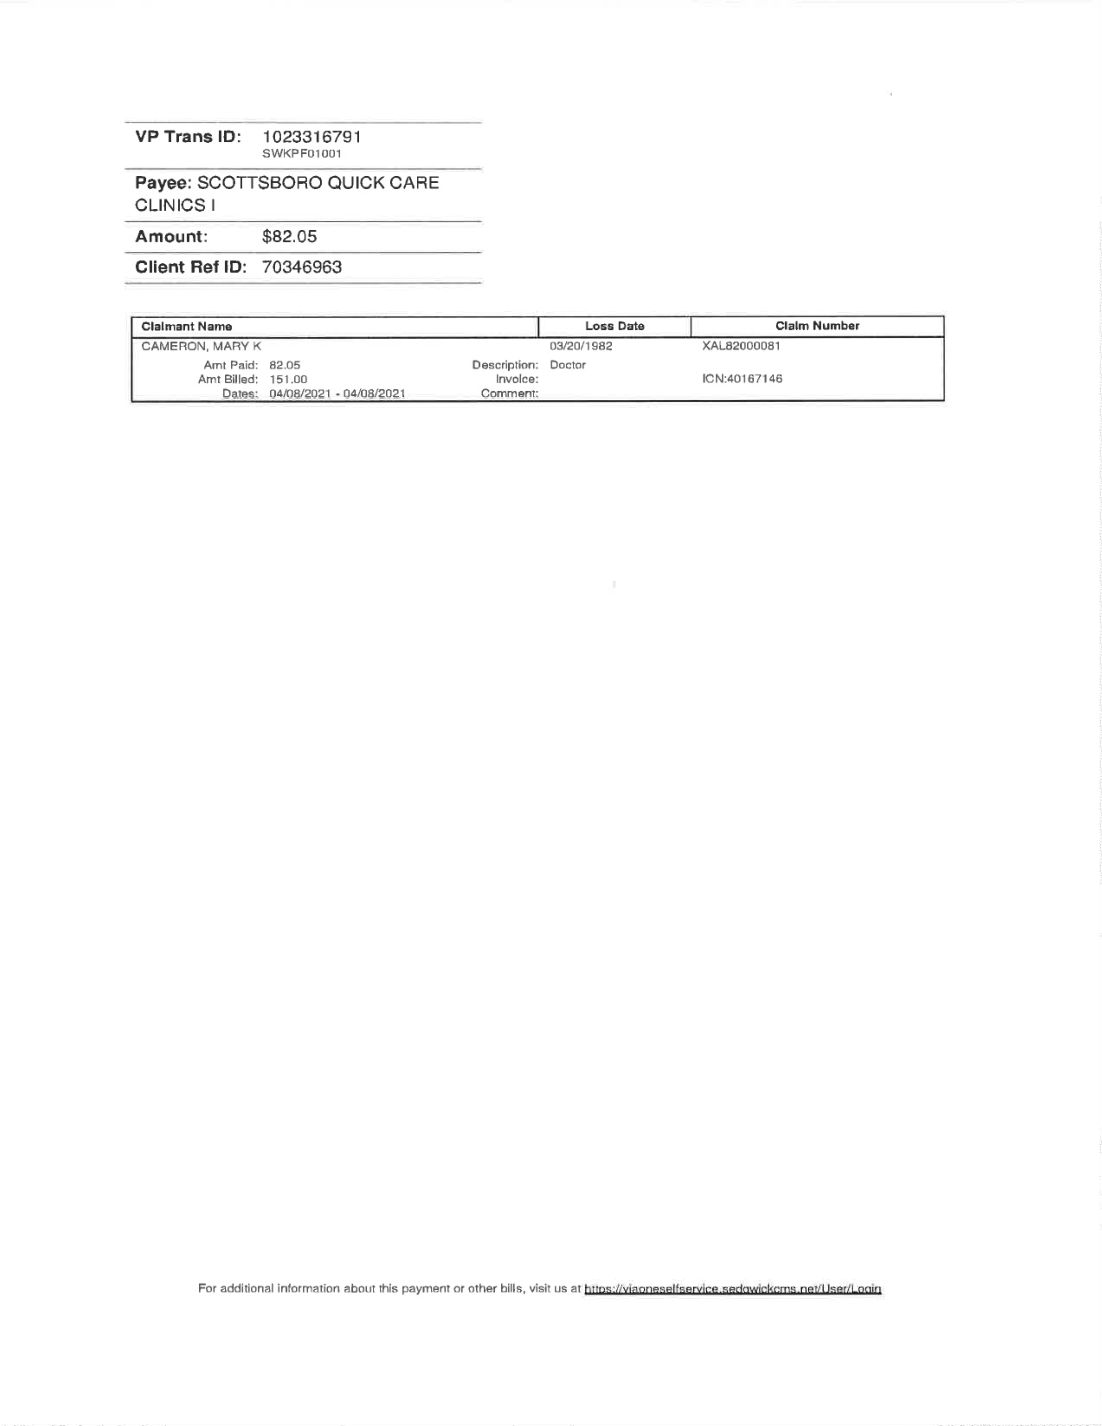data: (109, 100, 483, 297)
